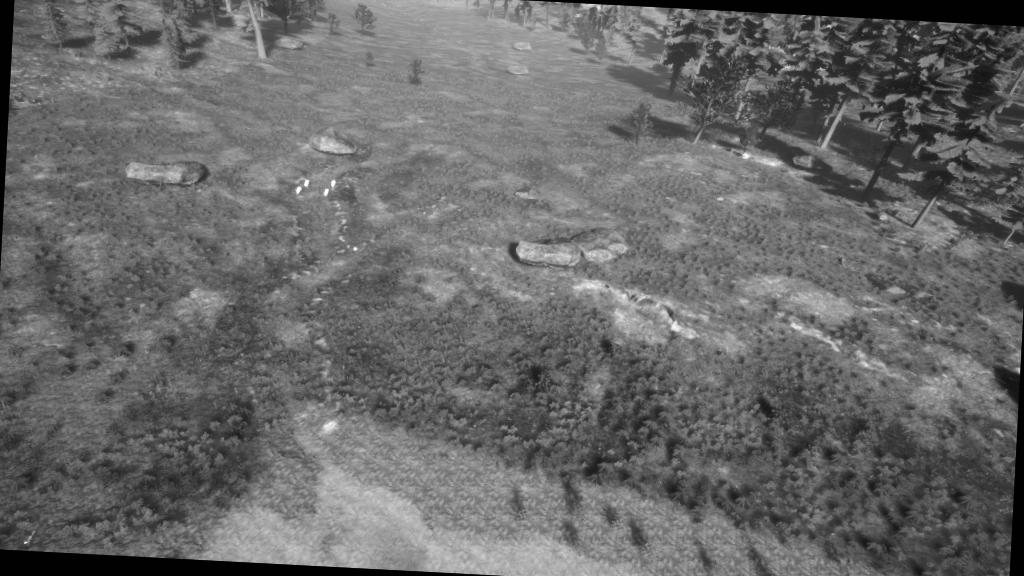pig: (298, 172, 318, 196), (294, 180, 306, 201), (326, 176, 343, 188), (320, 181, 328, 203)
